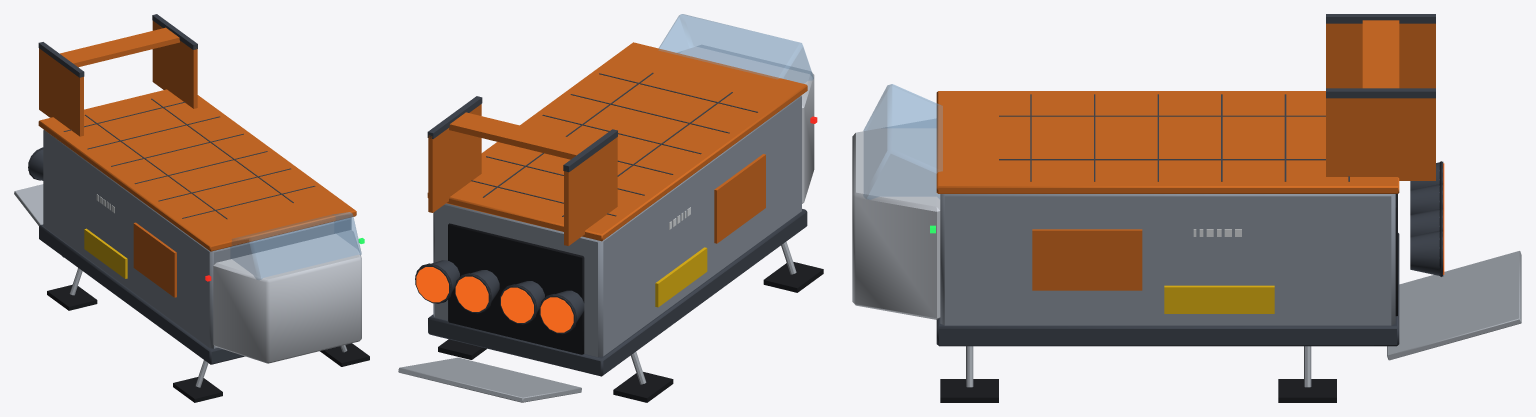
The model's file is craft_cargo_shuttle.glb.
The picture shows the model from 3 angles, left to right: view 1: azimuth 30°, elevation 25°; view 2: azimuth 150°, elevation 25°; view 3: azimuth 270°, elevation 25°; orthographic projection. The views are drawn at different scales.
Visible parts, largest first — view 1: craft_cargo_shuttle; view 2: craft_cargo_shuttle; view 3: craft_cargo_shuttle.
Boxes of the visible parts, x1=… form: craft_cargo_shuttle: x1=14, y1=14, x2=369, y2=402; craft_cargo_shuttle: x1=398, y1=14, x2=823, y2=402; craft_cargo_shuttle: x1=852, y1=14, x2=1521, y2=402.
Bounding box in the file's own units: 3.7 × 4.4 × 9.12.
